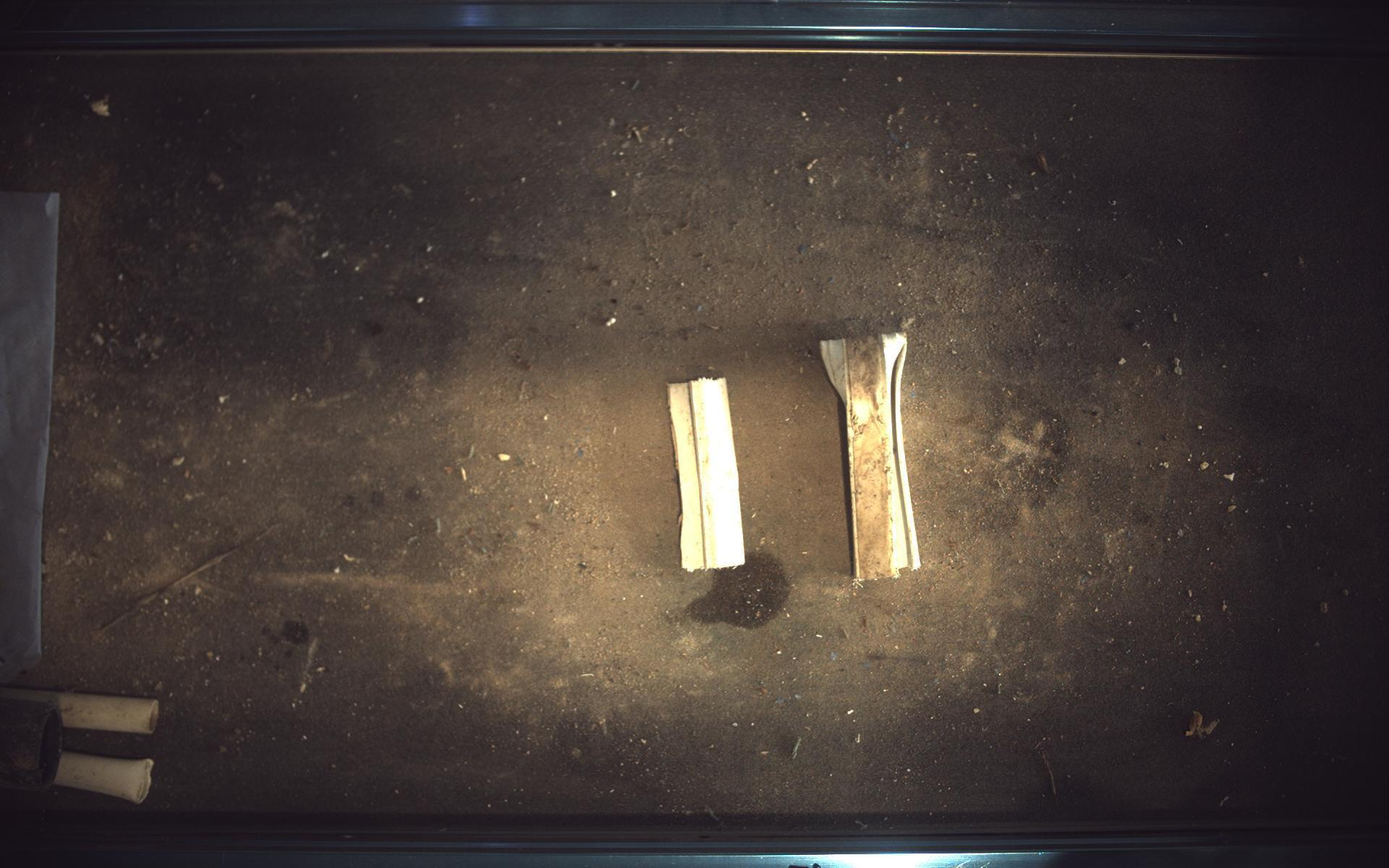pipes: (1, 689, 158, 736), (1, 699, 61, 792), (52, 753, 153, 806)
plastic: (822, 333, 922, 580), (668, 378, 746, 571)
